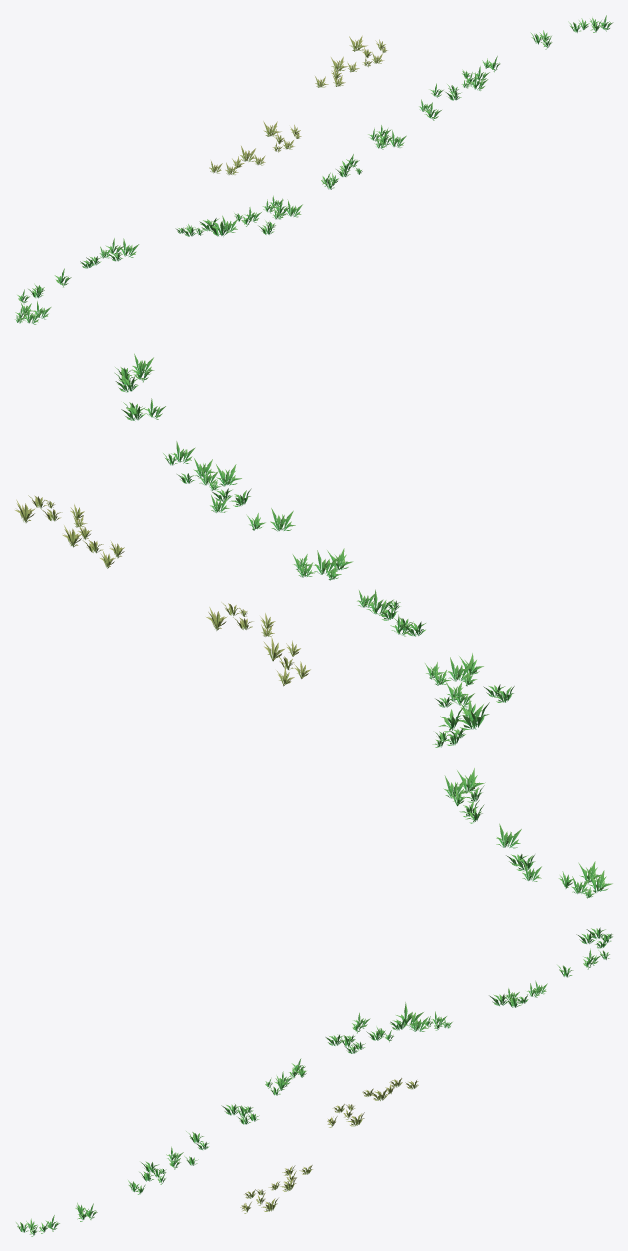
The model's file is area_08_11.fbx.
The picture shows the model from 3 angles, top to bottom: view 1: azimuth 90°, elevation 25°; view 2: azimuth 150°, elevation 25°; view 3: azimuth 270°, elevation 25°; orthographic projection. The views are drawn at different scales.
Parts seen in each view (by area): view 1: area_08_11; view 2: area_08_11; view 3: area_08_11.
Part boxes in pixels (x1,y1,x2,y2): area_08_11: (15,15,613,324); area_08_11: (15,353,612,898); area_08_11: (16,927,612,1236).
Bounding box in the file's own units: 52.23 × 1.64 × 43.66.
